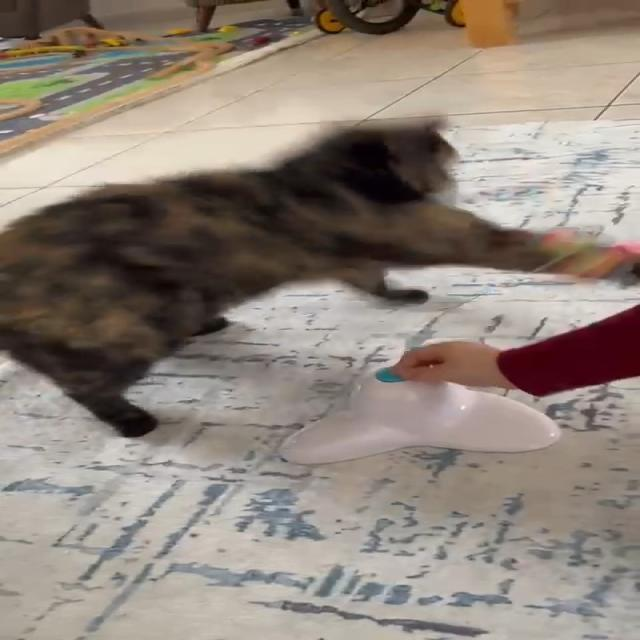authorized: (0, 114, 600, 438)
